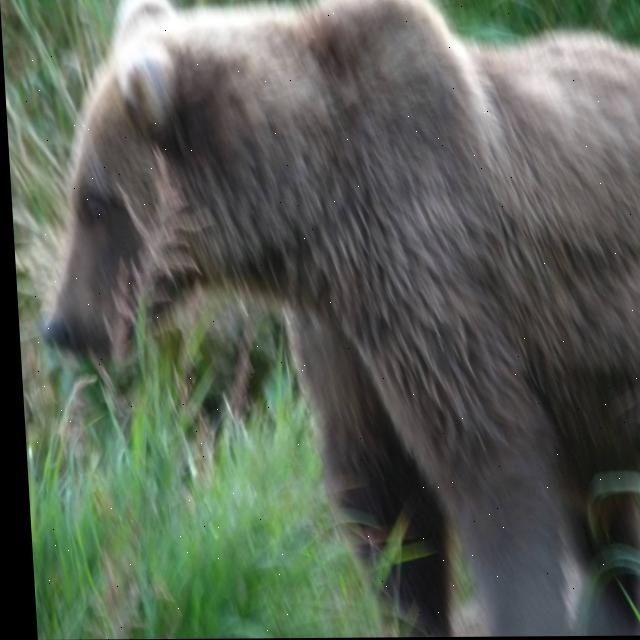bear face: (23, 0, 640, 640)
